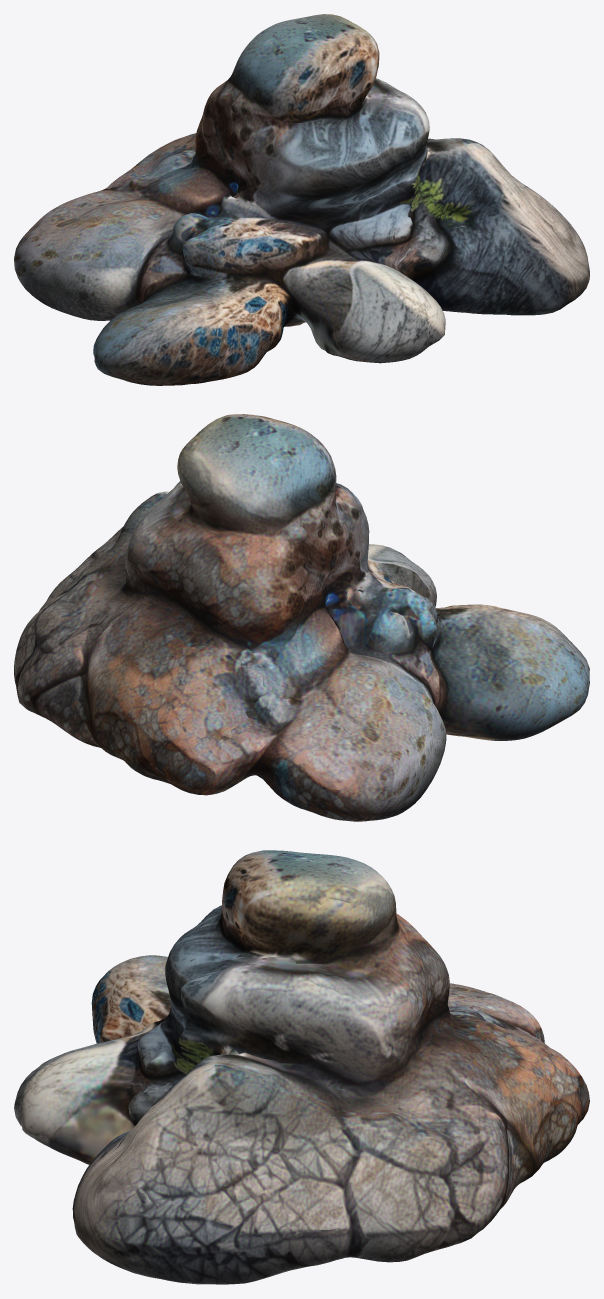
The model's file is Props_Stones_0124124148.fbx.
3 renders of one model, top to bottom at view 1: azimuth 30°, elevation 25°; view 2: azimuth 150°, elevation 25°; view 3: azimuth 270°, elevation 25°, orthographic. The views are drawn at different scales.
Parts seen in each view (by area): view 1: Mesh_0; view 2: Mesh_0; view 3: Mesh_0.
Boxes of the visible parts, box(x1,y1,x2,y2) form: Mesh_0: box(14, 14, 589, 385); Mesh_0: box(14, 414, 589, 821); Mesh_0: box(14, 850, 589, 1284).
Size of the model in its own units: 100 by 56.1 by 88.91.
1 material, 1 textured.
